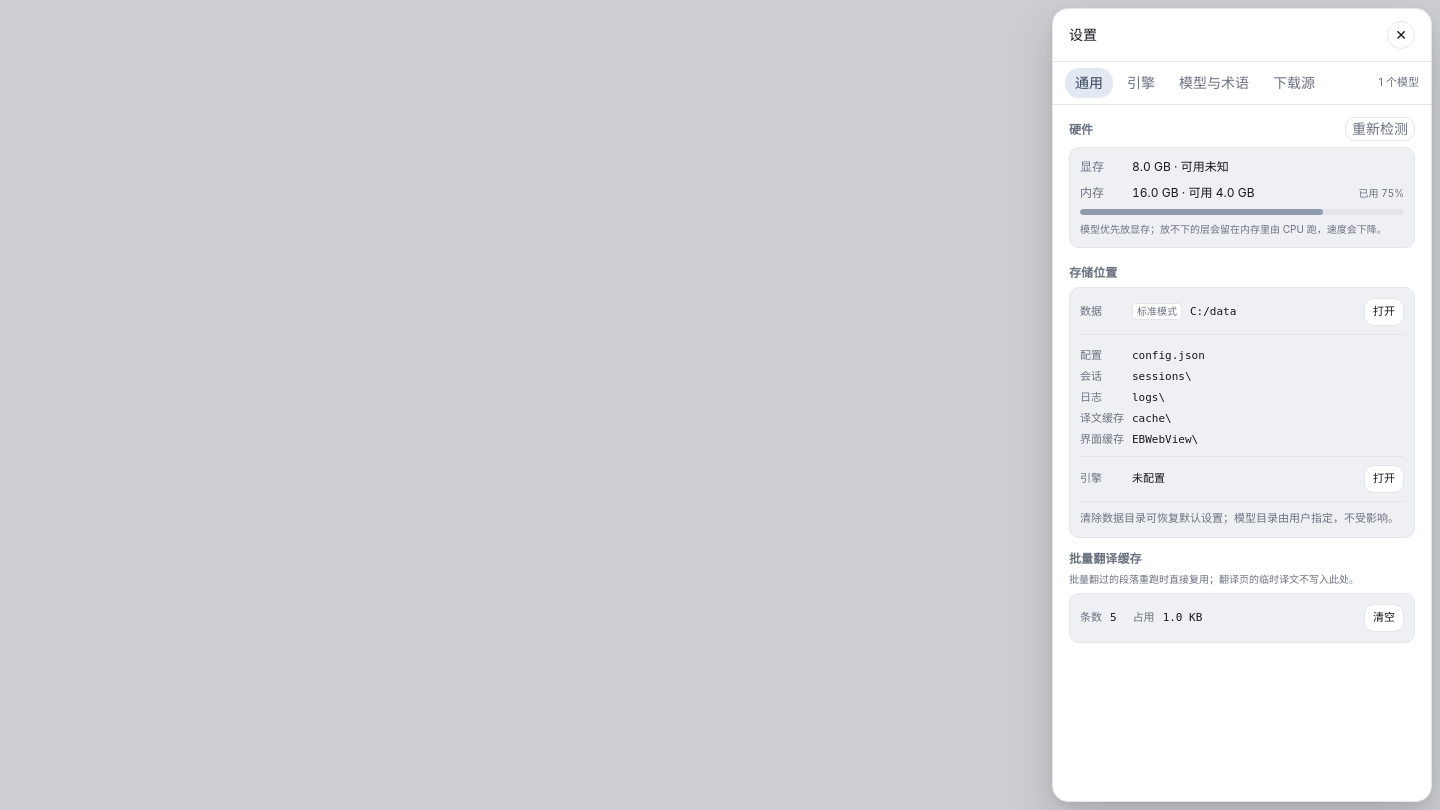
Scenario: ModelDrawer · 设置读写 › 引擎状态未就绪时不渲染下载或重下按钮
Click the tab "引擎" at (1141, 83), box [1117,68,1165,98]
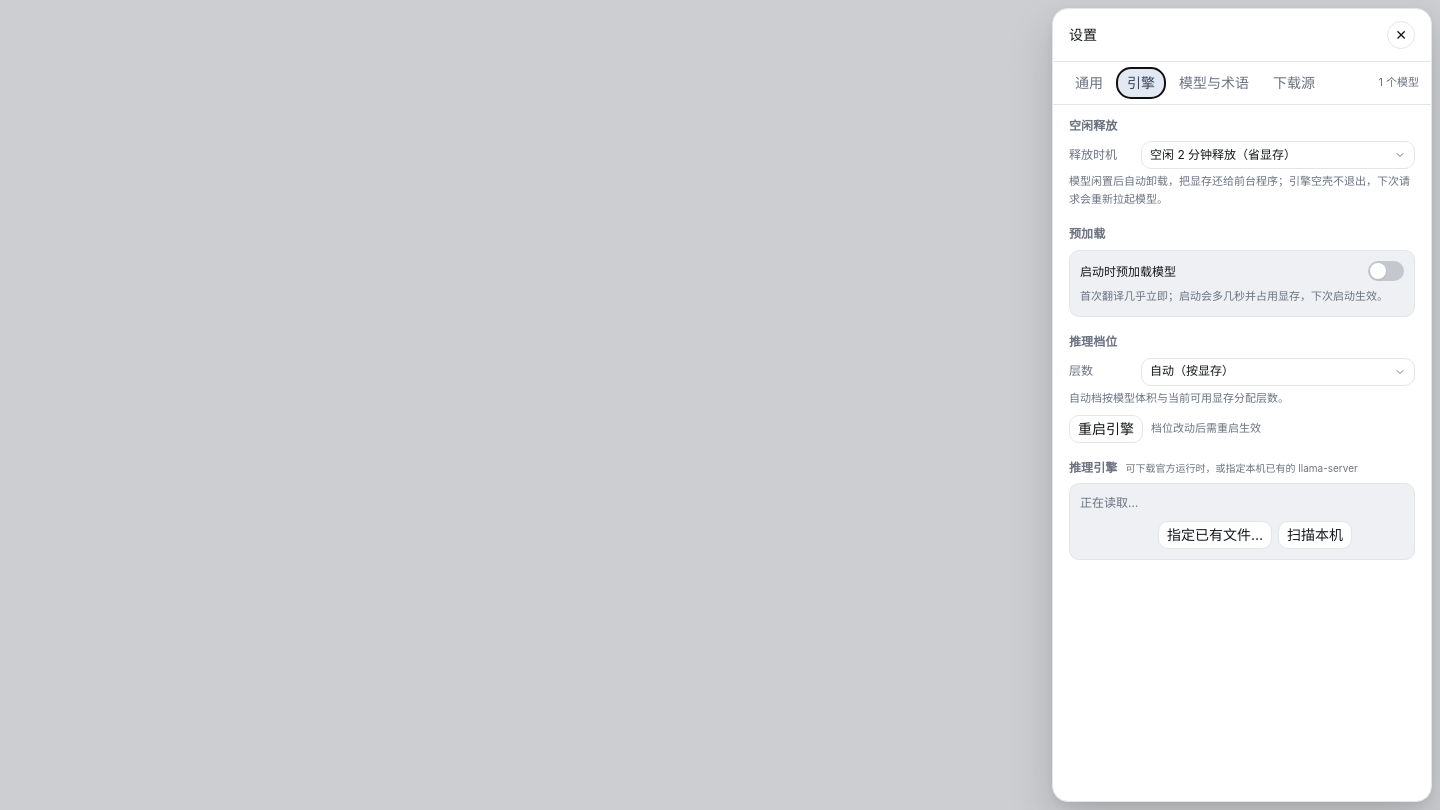
Check: the text "正在读取…" is shown, box [1080,495,1138,510]
